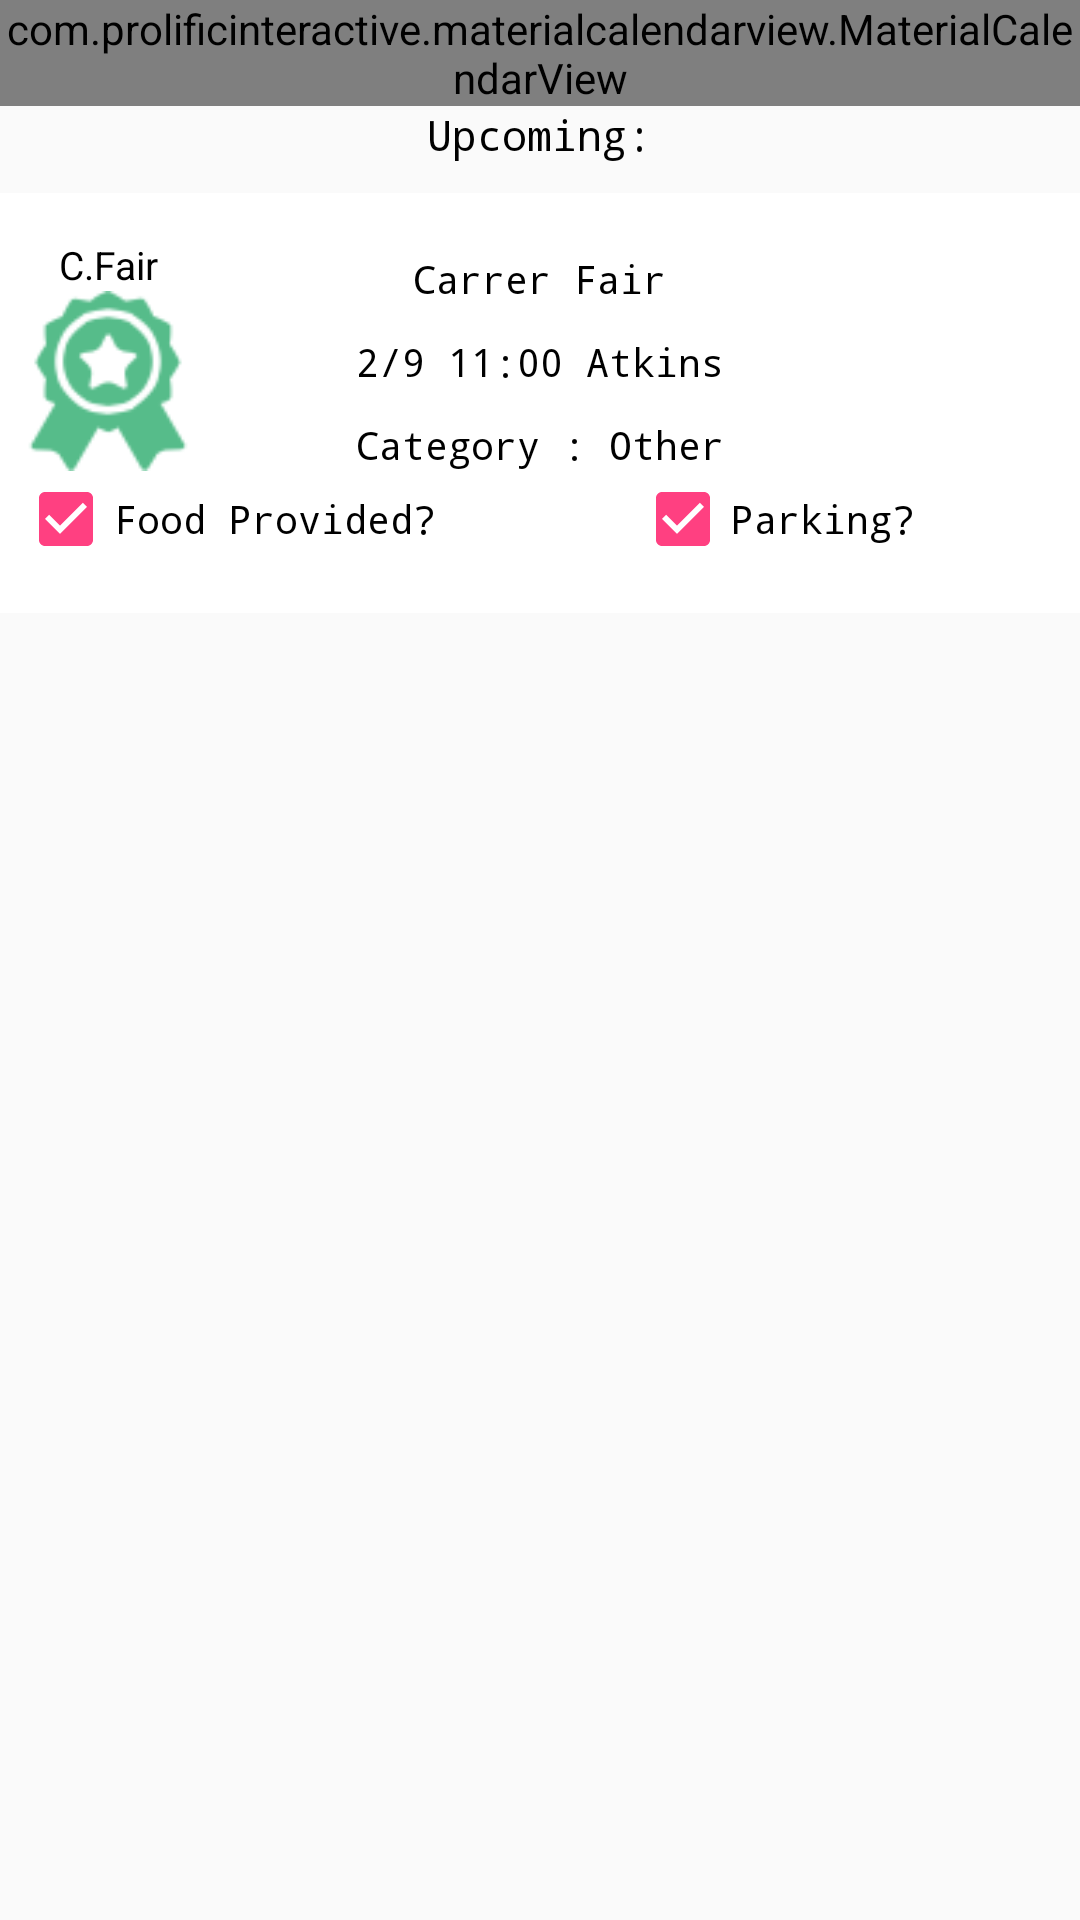

Icon bounding boxes for this 1080 × 1920 phone screenshot, format box(x1, y1, x2, y2):
premium: box(30, 291, 186, 471)
